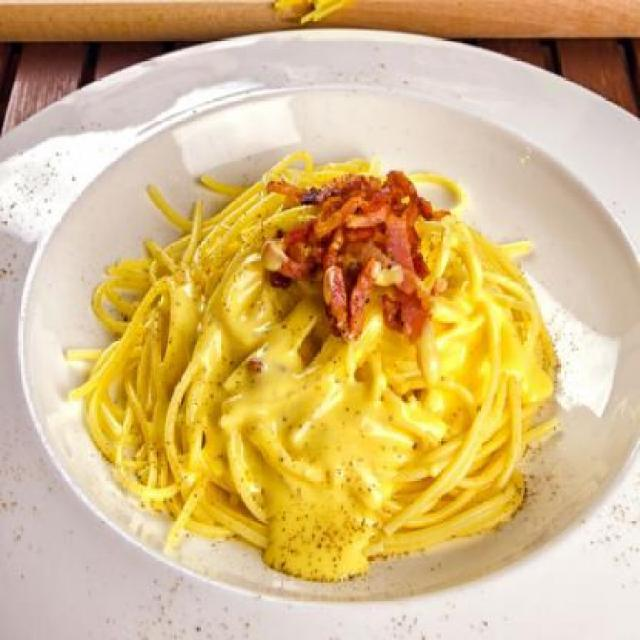Pasta with carbonara sauce: (46, 113, 634, 604)
